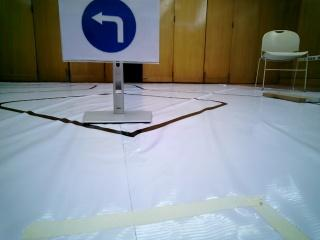left: (60, 2, 157, 61)
